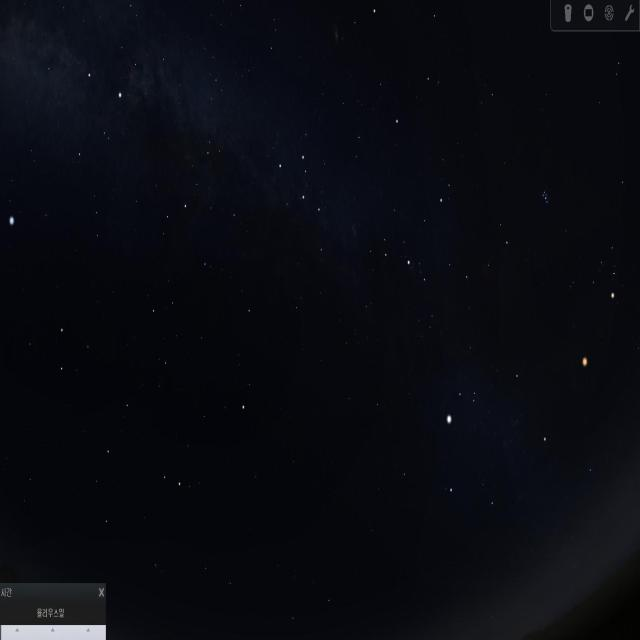cassiopeia: (270, 138, 330, 256)
pleiades: (538, 170, 550, 208)
